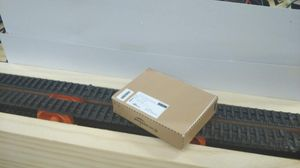box2: (110, 66, 218, 149)
